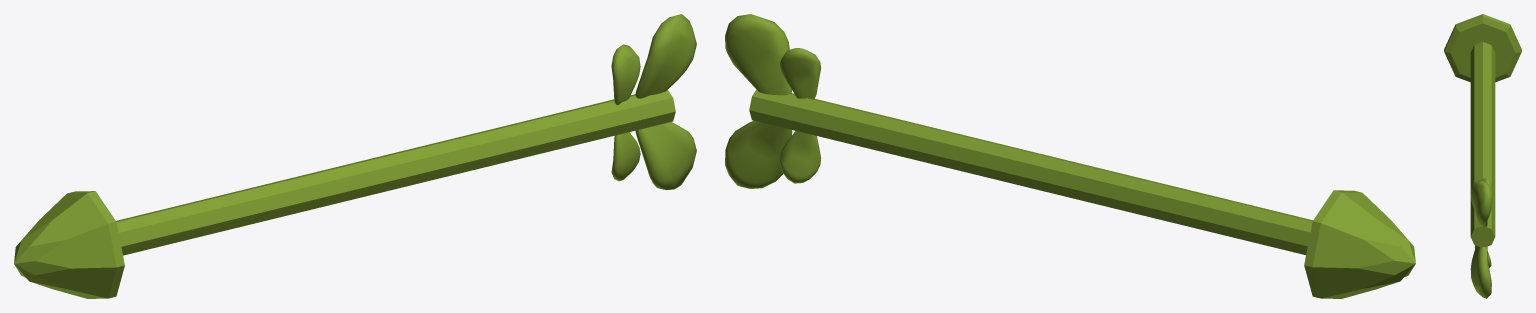
File: arrow 1.fbx
3 renders of one model, left to right at view 1: azimuth 30°, elevation 25°; view 2: azimuth 150°, elevation 25°; view 3: azimuth 270°, elevation 25°, orthographic. The views are drawn at different scales.
Visible parts, largest first — view 1: Cone; view 2: Cone; view 3: Cone.
Boxes of the visible parts, bbox=[...] form: Cone: bbox=[14, 14, 696, 298]; Cone: bbox=[725, 14, 1415, 298]; Cone: bbox=[1444, 14, 1521, 298].
Bounding box in the file's own units: 150 × 36.57 × 22.29.
1 material, 1 textured.
